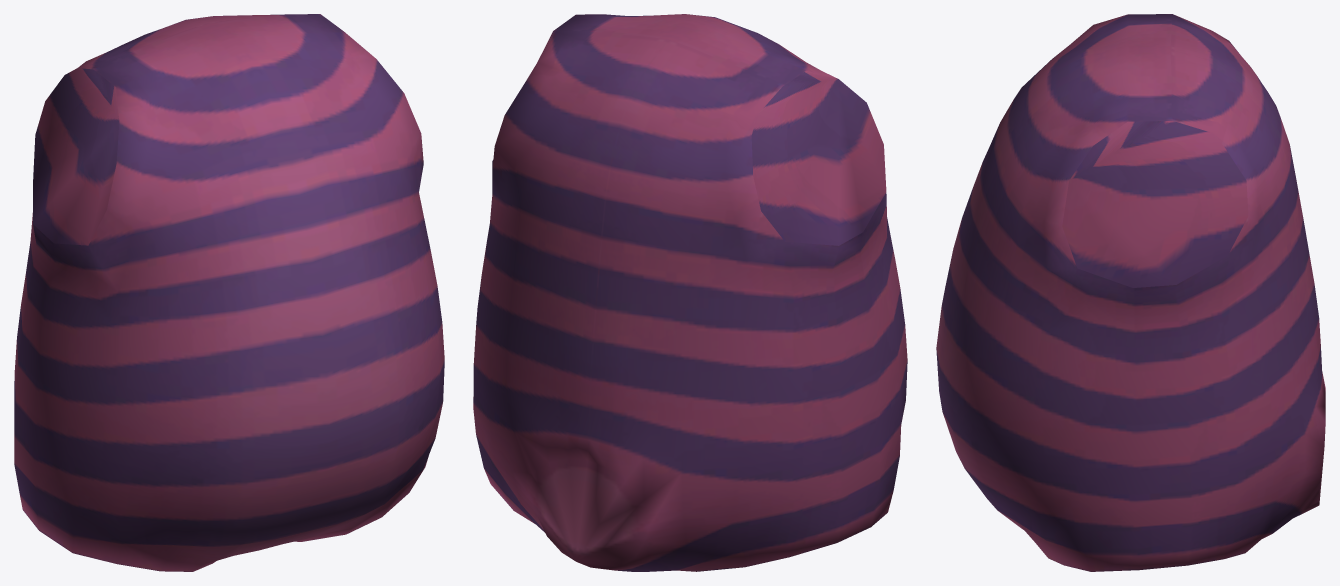
The model's file is body.obj.
The picture shows the model from 3 angles, left to right: view 1: azimuth 30°, elevation 25°; view 2: azimuth 150°, elevation 25°; view 3: azimuth 270°, elevation 25°; orthographic projection. The views are drawn at different scales.
Parts seen in each view (by area): view 1: Bip001 Spine2, Bip001 Spine, Bip001 Spine1, Bip001 Pelvis, Bip001 R Clavicle, Bip001 L Clavicle, park_cheshirecat_ob0_L0.body_Material.001; view 2: Bip001 Spine2, Bip001 Pelvis, Bip001 Spine, Bip001 Spine1, Bip001 R Clavicle, Bip001 L Clavicle; view 3: Bip001 Spine2, Bip001 Spine, Bip001 Spine1, Bip001 Pelvis, Bip001 L Clavicle, Bip001 R Clavicle.
Boxes of the visible parts, x1=… form: Bip001 Spine2: x1=26, y1=15, x2=430, y2=327; Bip001 Spine: x1=14, y1=323, x2=444, y2=486; Bip001 Spine1: x1=17, y1=250, x2=442, y2=404; Bip001 Pelvis: x1=14, y1=403, x2=442, y2=571; Bip001 R Clavicle: x1=78, y1=42, x2=187, y2=121; Bip001 L Clavicle: x1=250, y1=14, x2=375, y2=75; park_cheshirecat_ob0_L0.body_Material.001: x1=307, y1=457, x2=366, y2=531; Bip001 Spine2: x1=485, y1=14, x2=893, y2=332; Bip001 Pelvis: x1=473, y1=397, x2=901, y2=571; Bip001 Spine: x1=473, y1=325, x2=907, y2=480; Bip001 Spine1: x1=476, y1=244, x2=905, y2=403; Bip001 R Clavicle: x1=675, y1=43, x2=837, y2=180; Bip001 L Clavicle: x1=505, y1=14, x2=647, y2=130; Bip001 Spine2: x1=959, y1=25, x2=1309, y2=363; Bip001 Spine: x1=936, y1=307, x2=1322, y2=501; Bip001 Spine1: x1=941, y1=219, x2=1318, y2=431; Bip001 Pelvis: x1=943, y1=372, x2=1325, y2=571; Bip001 L Clavicle: x1=1076, y1=83, x2=1257, y2=180; Bip001 R Clavicle: x1=1076, y1=14, x2=1256, y2=75.
Size of the model in its own units: 0.5371 by 0.6713 by 0.4902.
